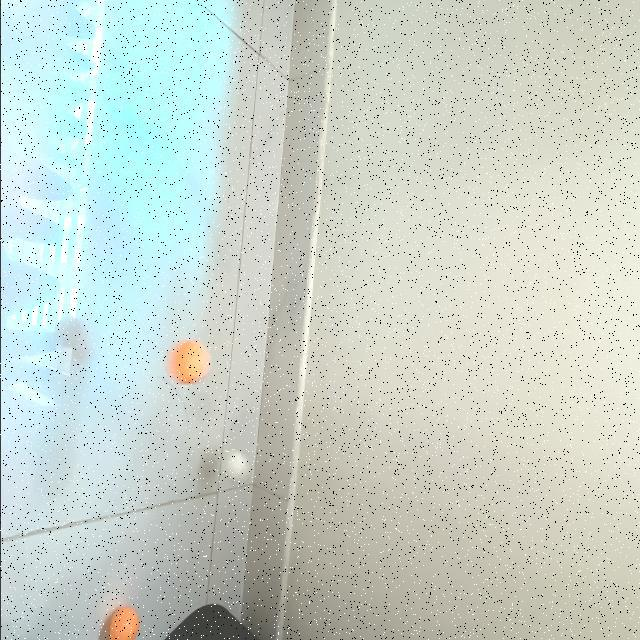ping-pong-ball: (171, 342, 207, 386), (108, 605, 139, 640), (221, 449, 249, 484)
